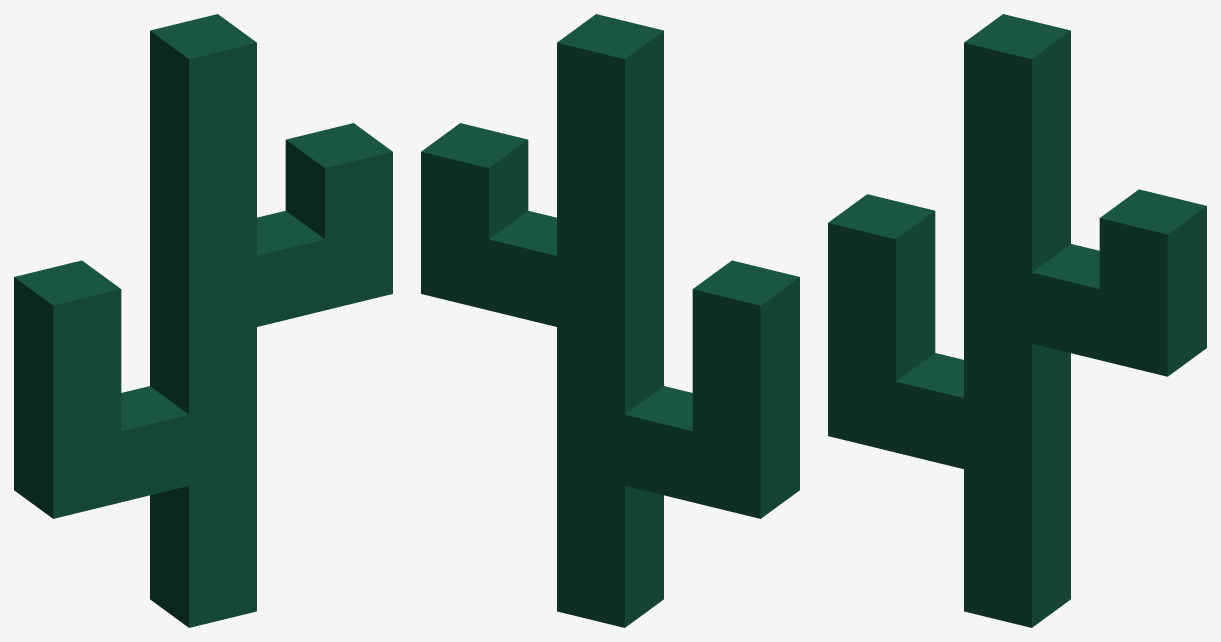
Rendered from cactus4new.obj.
3 views of the same model, side by side, from view 1: azimuth 30°, elevation 25°; view 2: azimuth 150°, elevation 25°; view 3: azimuth 330°, elevation 25° (orthographic).
Size of the model in its own units: 0.5 by 0.8 by 0.1.
1 material, 1 textured.
